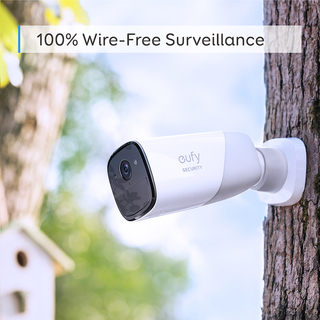Nest Cam: (104, 126, 274, 222)
